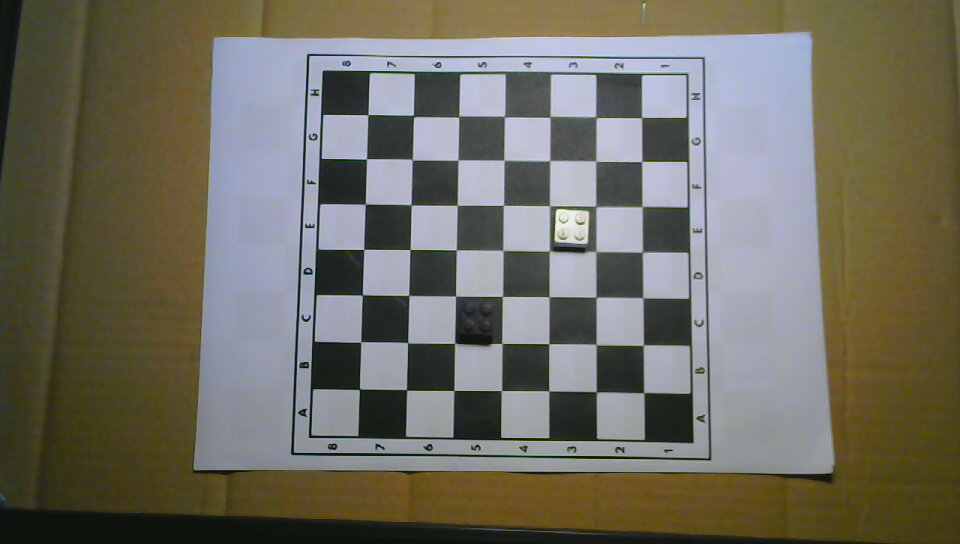bp: (458, 298, 496, 342)
wp: (553, 207, 589, 248)
